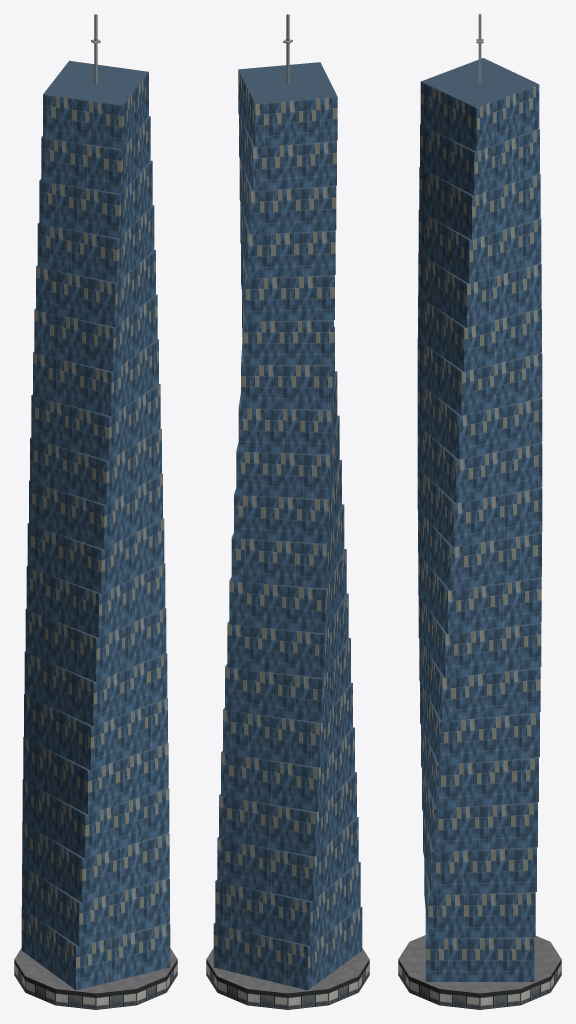
The model's file is 053_twisting_tower.glb.
3 views of the same model, side by side, from view 1: azimuth 30°, elevation 25°; view 2: azimuth 150°, elevation 25°; view 3: azimuth 270°, elevation 25° (orthographic).
Visible parts, largest first — view 1: 053_twisting_tower; view 2: 053_twisting_tower; view 3: 053_twisting_tower.
Boxes of the visible parts, bbox=[...] form: 053_twisting_tower: bbox=[14, 14, 177, 1009]; 053_twisting_tower: bbox=[206, 14, 369, 1009]; 053_twisting_tower: bbox=[398, 14, 561, 1009].
Bounding box in the file's own units: 54 × 351 × 54.
Materials: 5 (3 with a texture image).
